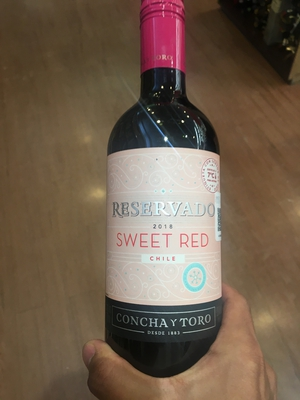reservado sweet red: (94, 11, 247, 400)
